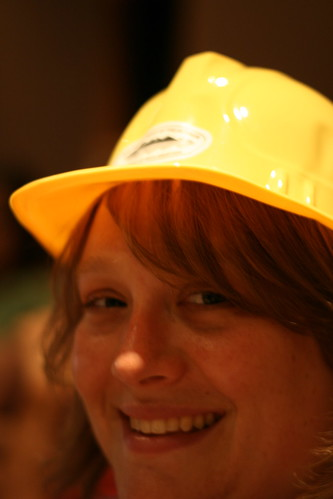person hardhat: (14, 44, 333, 499)
